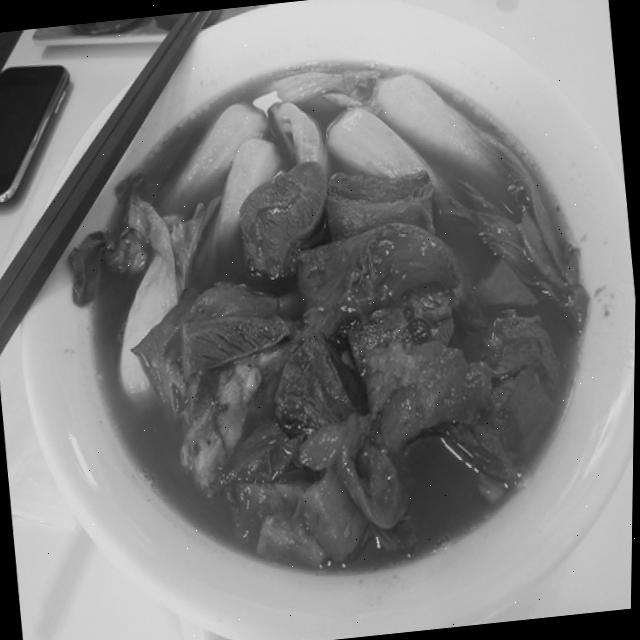面条主食: (32, 2, 639, 620)
